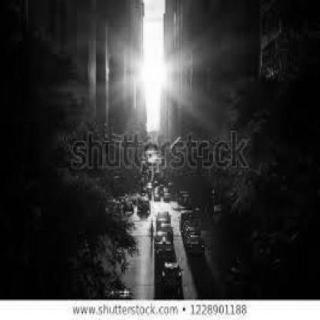other: (122, 21, 190, 120)
